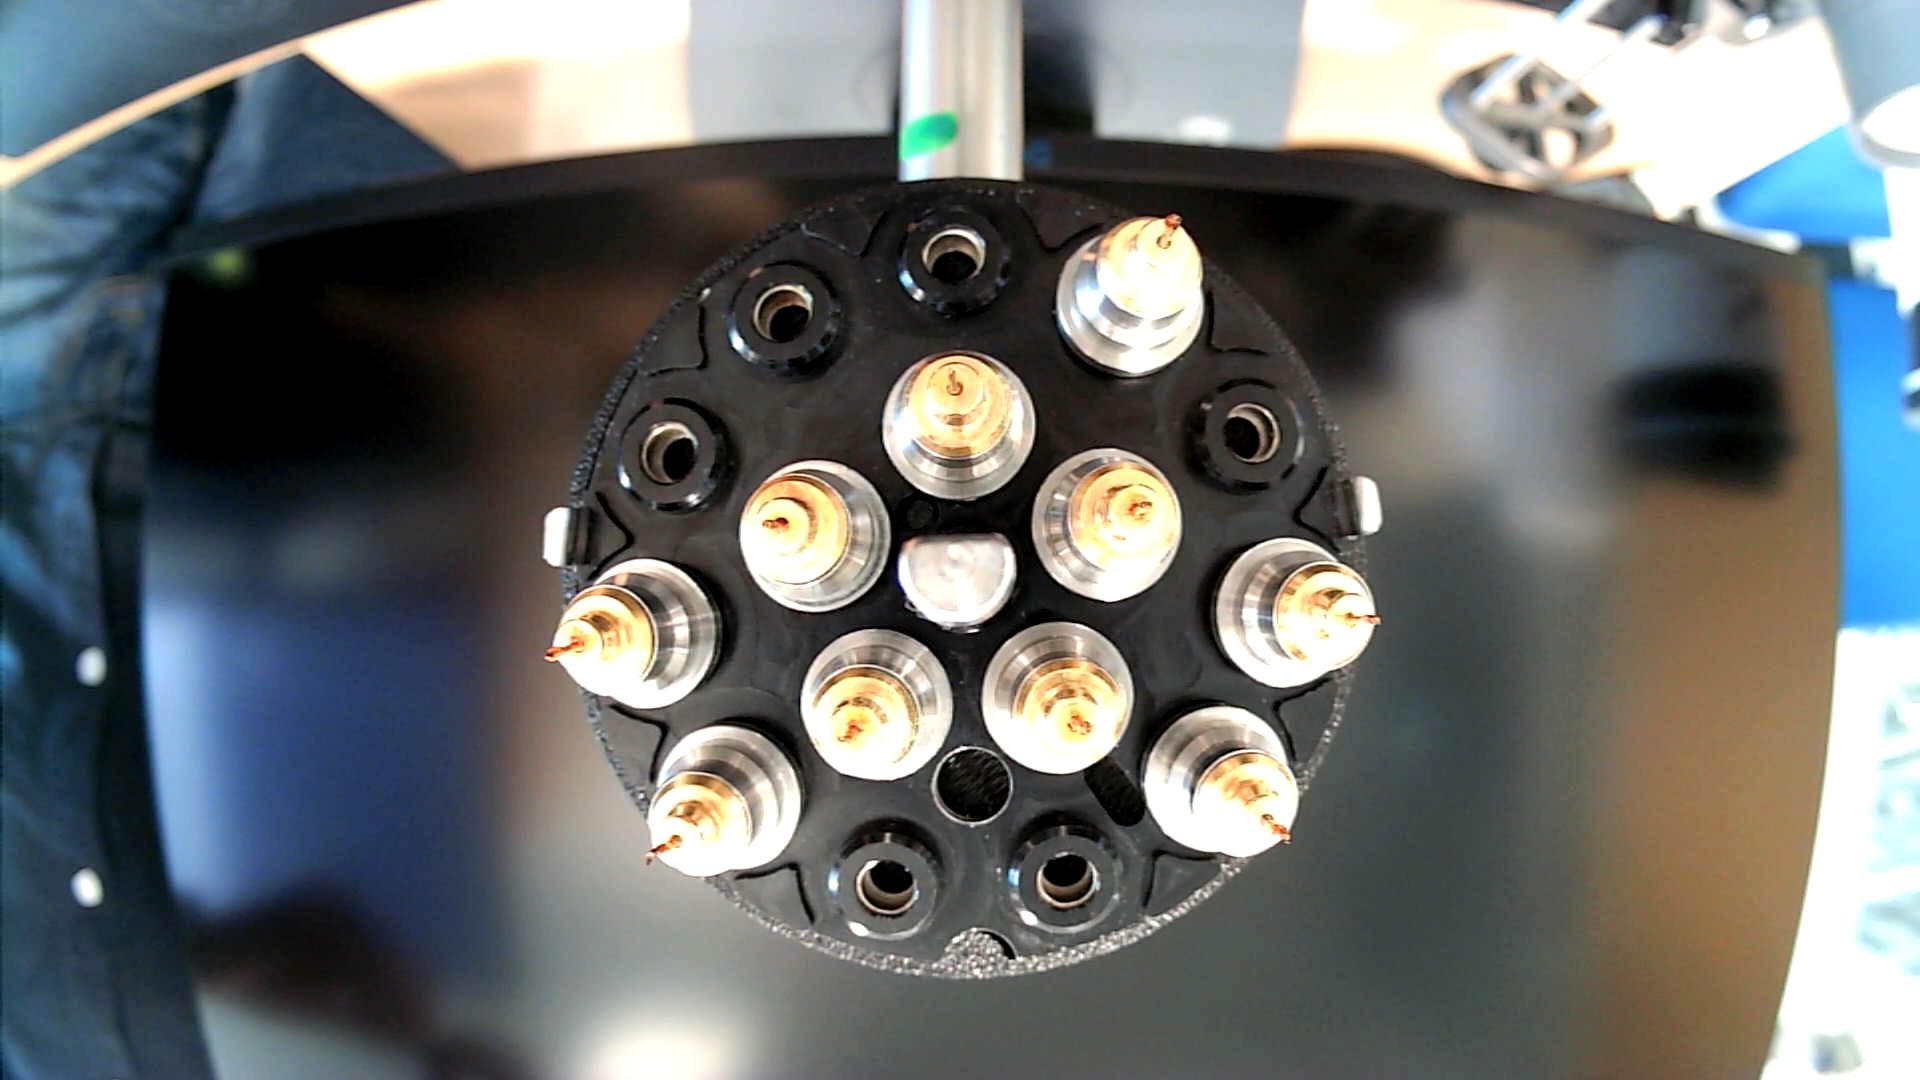empty: (819, 807, 952, 948), (1004, 807, 1127, 947), (890, 200, 1021, 328), (1180, 375, 1309, 502), (609, 392, 738, 520), (720, 258, 855, 378)
hole: (928, 744, 1014, 831)
pin: (542, 555, 727, 709), (637, 716, 803, 878), (1209, 535, 1381, 692), (1139, 703, 1302, 862), (1056, 211, 1207, 382), (880, 345, 1040, 502), (794, 625, 953, 782), (978, 618, 1135, 775), (1030, 446, 1184, 605), (738, 451, 893, 611)
rod: (895, 530, 1023, 636)
